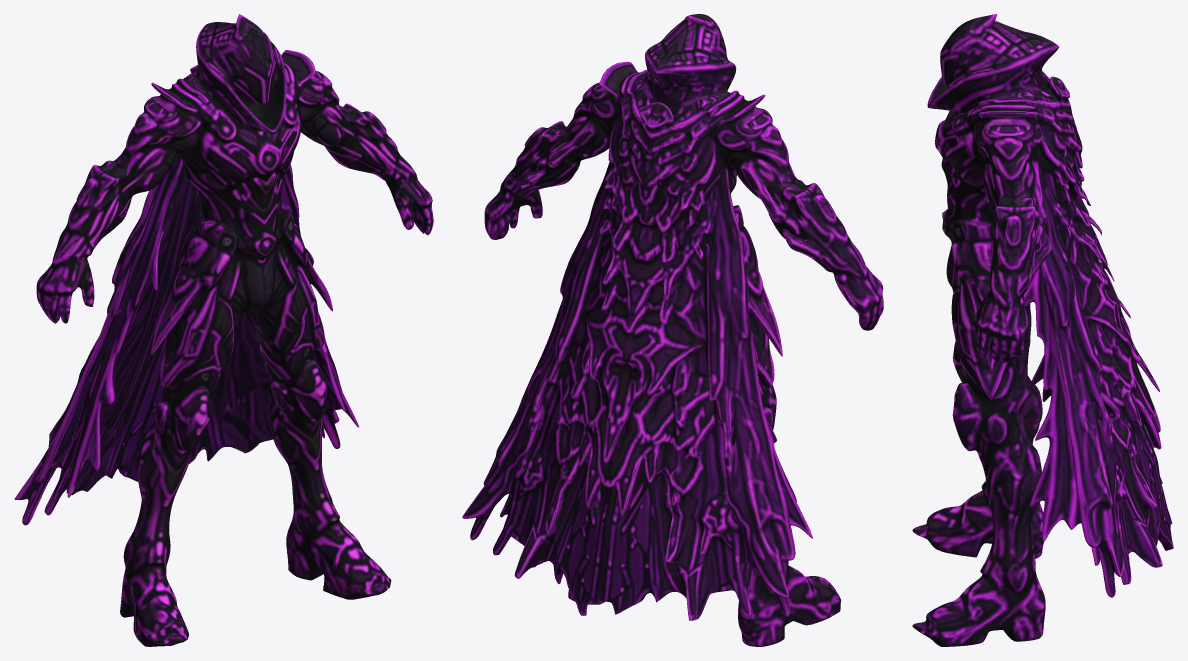
Rendered from drakos_n7.glb.
3 views of the same model, side by side, from view 1: azimuth 30°, elevation 25°; view 2: azimuth 150°, elevation 25°; view 3: azimuth 270°, elevation 25° (orthographic). The views are drawn at different scales.
Bounding box in the file's own units: 1.31 × 1.9 × 0.7741.
Materials: 1 (1 with a texture image).
